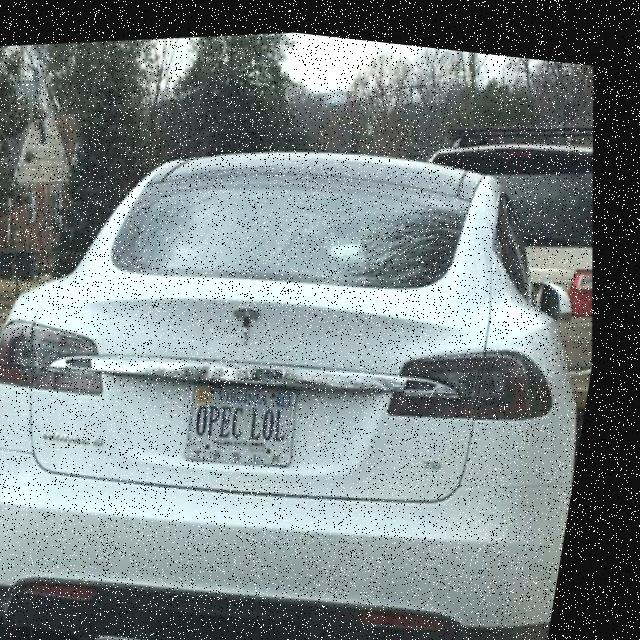license_plate: (193, 360, 312, 470)
